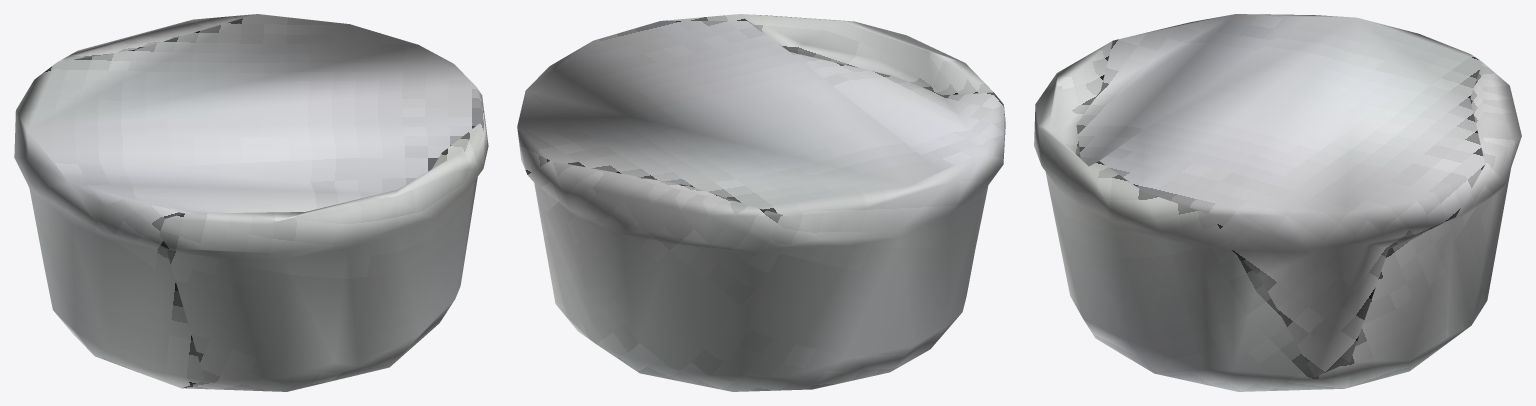
Rendered from Threshold_Ramekin_White_Porcelain-low.glb.
3 renders of one model, left to right at view 1: azimuth 30°, elevation 25°; view 2: azimuth 150°, elevation 25°; view 3: azimuth 270°, elevation 25°, orthographic. The views are drawn at different scales.
Visible parts, largest first — view 1: Threshold_Ramekin_White_Porcelain; view 2: Threshold_Ramekin_White_Porcelain; view 3: Threshold_Ramekin_White_Porcelain.
Boxes of the visible parts, box(x1,y1,x2,y2) form: Threshold_Ramekin_White_Porcelain: box(14, 14, 488, 391); Threshold_Ramekin_White_Porcelain: box(517, 14, 1005, 391); Threshold_Ramekin_White_Porcelain: box(1034, 14, 1521, 391).
Size of the model in its own units: 0.1104 by 0.0524 by 0.1112.
Materials: 1 (1 with a texture image).
